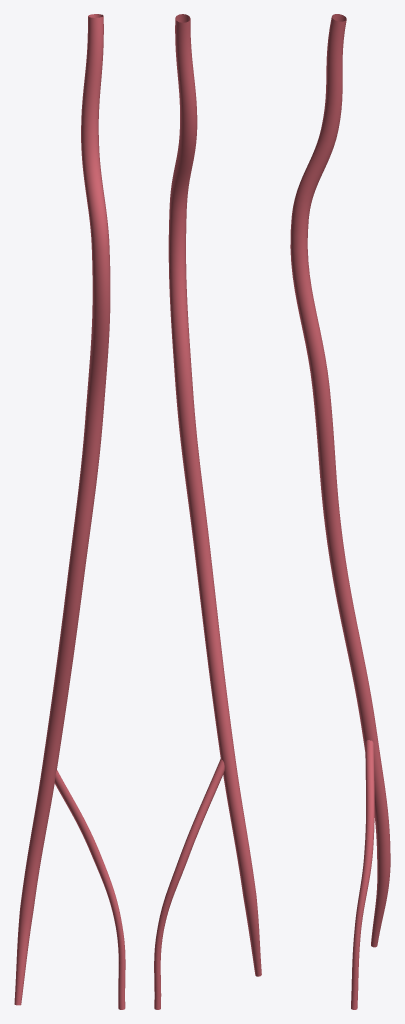
The picture shows the model from 3 angles, left to right: view 1: azimuth 30°, elevation 25°; view 2: azimuth 210°, elevation 25°; view 3: azimuth 270°, elevation 25°; orthographic projection. The views are drawn at different scales.
Parts seen in each view (by area): view 1: ZA_5dfc86db873736df; view 2: ZA_5dfc86db873736df; view 3: ZA_5dfc86db873736df.
Part boxes in pixels (x1,y1,x2,y2): ZA_5dfc86db873736df: (14,14,125,1009); ZA_5dfc86db873736df: (154,14,261,1009); ZA_5dfc86db873736df: (290,14,390,1009).
Size of the model in its own units: 0.0169 by 0.1621 by 0.0151.
